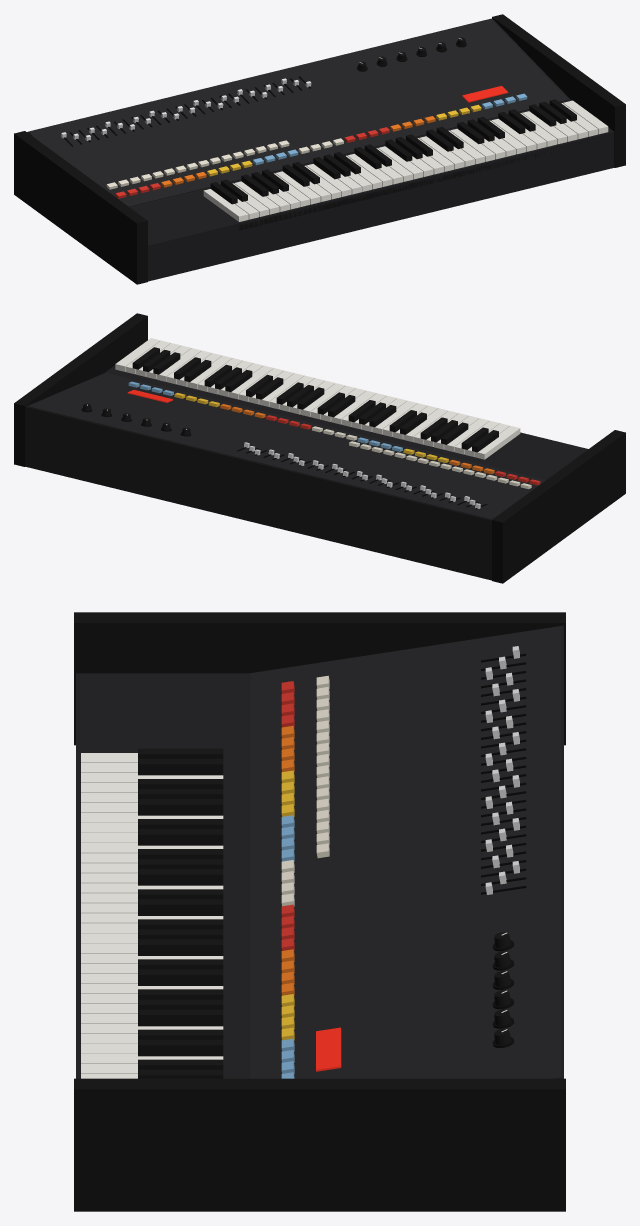
Rendered from jupiter-8.glb.
3 renders of one model, top to bottom at view 1: azimuth 30°, elevation 25°; view 2: azimuth 150°, elevation 25°; view 3: azimuth 270°, elevation 25°, orthographic. The views are drawn at different scales.
Parts seen in each view (by area): view 1: Jupiter-8; view 2: Jupiter-8; view 3: Jupiter-8.
Part boxes in pixels (x1=…): Jupiter-8: x1=14, y1=14, x2=625, y2=284; Jupiter-8: x1=14, y1=313, x2=625, y2=583; Jupiter-8: x1=74, y1=612, x2=565, y2=1211.
Size of the model in its own units: 1.11 by 0.1354 by 0.484.
